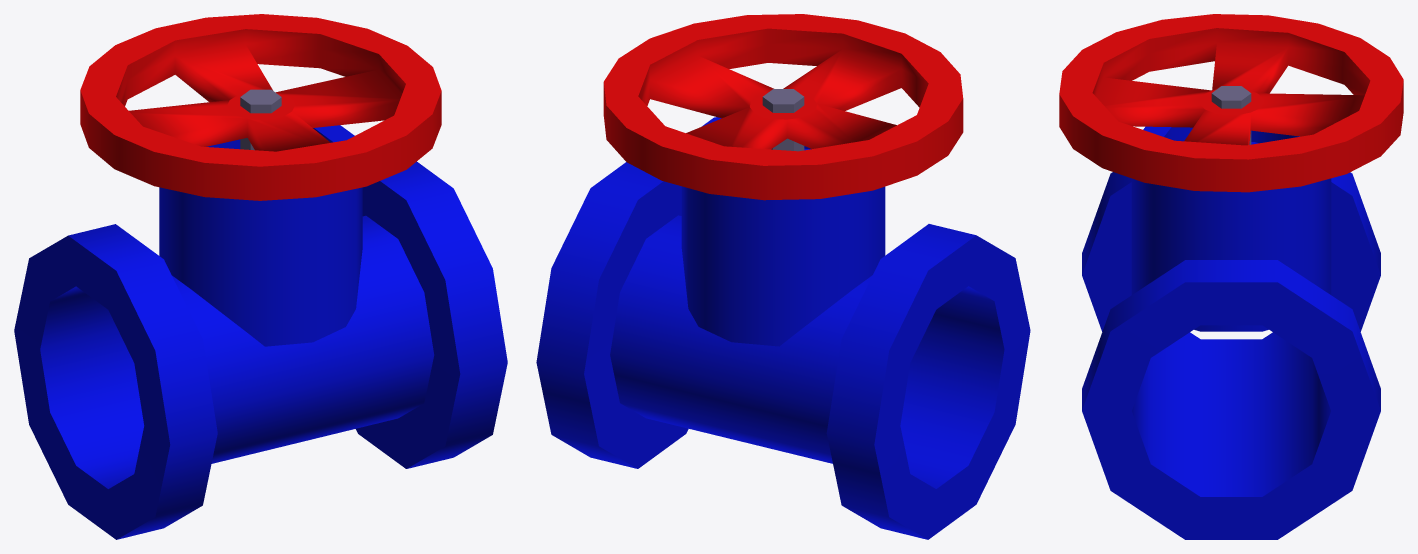
The model's file is basic_pipe_valve.gltf.
3 renders of one model, left to right at view 1: azimuth 30°, elevation 25°; view 2: azimuth 150°, elevation 25°; view 3: azimuth 270°, elevation 25°, orthographic. The views are drawn at different scales.
Parts seen in each view (by area): view 1: link_short, ValveWheel, ValveExtrude; view 2: link_short, ValveWheel, ValveExtrude; view 3: link_short, ValveWheel, ValveExtrude.
Boxes of the visible parts, x1=… form: link_short: x1=14, y1=161, x2=507, y2=539; ValveWheel: x1=80, y1=14, x2=441, y2=200; ValveExtrude: x1=159, y1=125, x2=362, y2=346; link_short: x1=536, y1=162, x2=1030, y2=539; ValveWheel: x1=603, y1=14, x2=963, y2=200; ValveExtrude: x1=681, y1=117, x2=885, y2=346; link_short: x1=1082, y1=172, x2=1380, y2=539; ValveWheel: x1=1059, y1=14, x2=1403, y2=192; ValveExtrude: x1=1131, y1=126, x2=1331, y2=331.
Size of the model in its own units: 0.3745 by 0.4143 by 0.3454.
